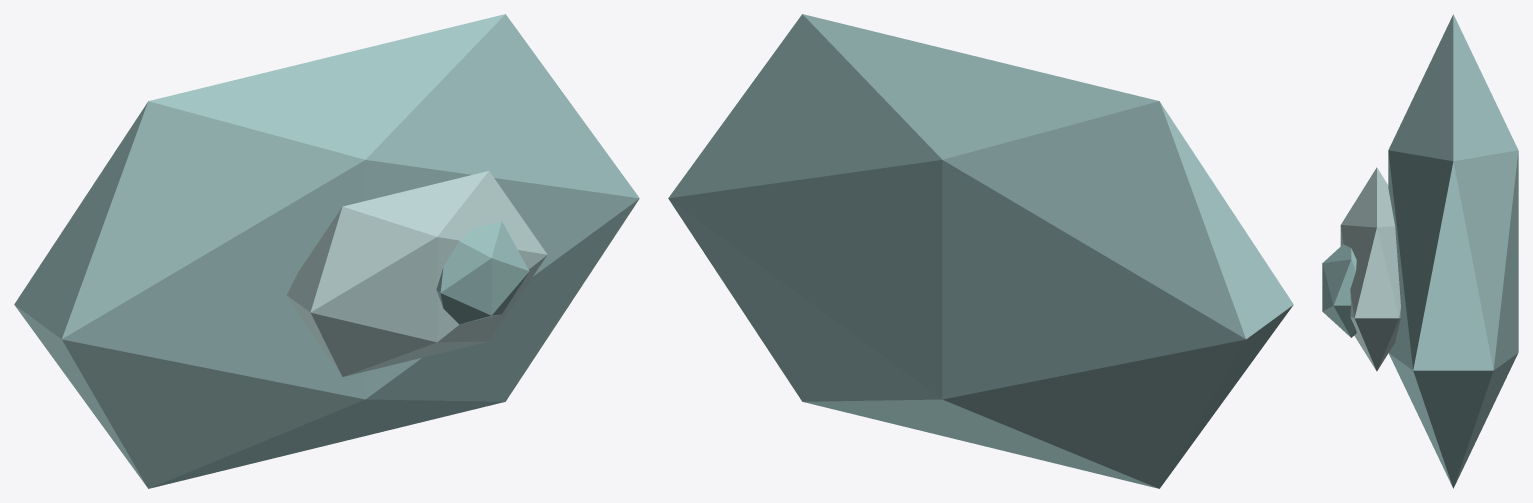
File: amoeba.glb
3 views of the same model, side by side, from view 1: azimuth 30°, elevation 25°; view 2: azimuth 150°, elevation 25°; view 3: azimuth 270°, elevation 25° (orthographic). The views are drawn at different scales.
Visible parts, largest first — view 1: world; view 2: world; view 3: world.
Part boxes in pixels (<box>): world: <box>14,14,639,488</box>; world: <box>668,14,1293,488</box>; world: <box>1322,14,1518,488</box>.
Size of the model in its own units: 0.6635 by 0.4253 by 0.2306.
